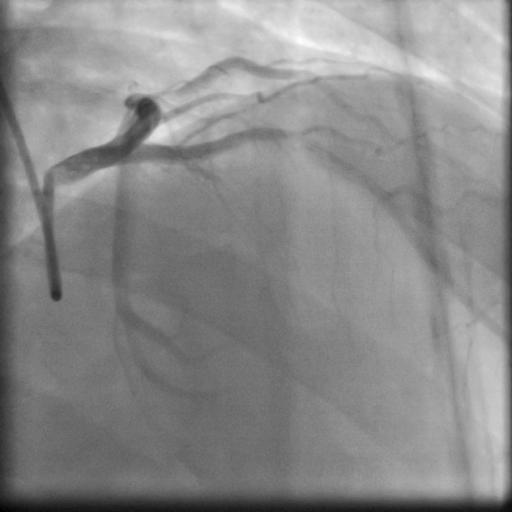Stenosis: (142, 74, 193, 97)
